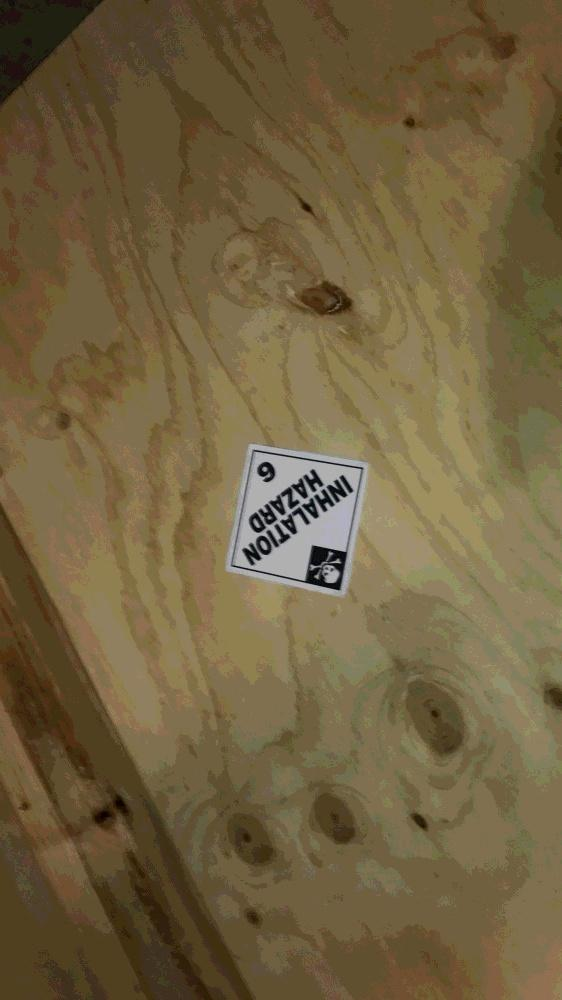poison: (223, 436, 372, 602)
